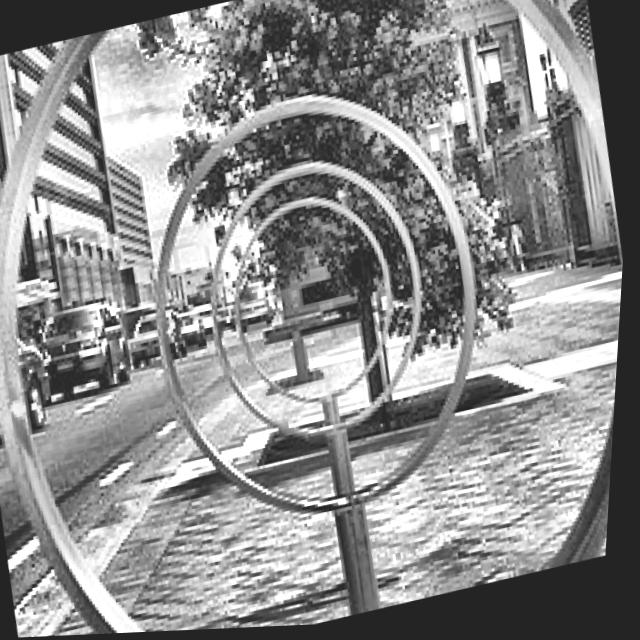light_vehicle: (25, 275, 151, 409), (0, 285, 70, 454)
